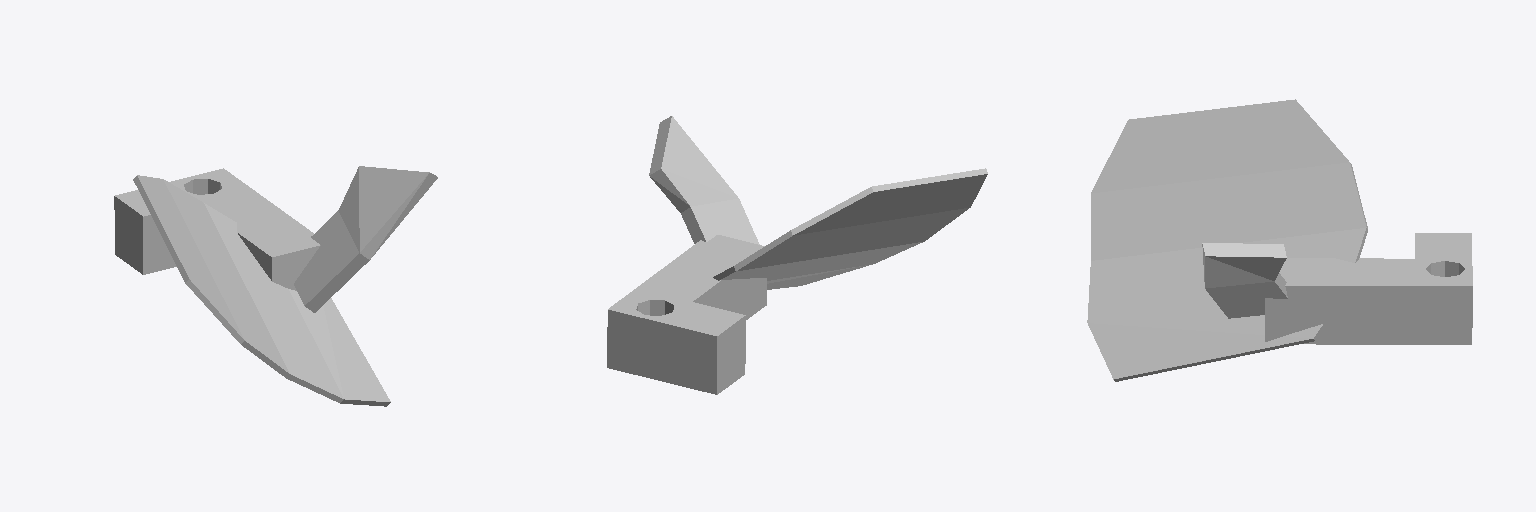
The model's file is R_WAA.obj.
3 views of the same model, side by side, from view 1: azimuth 30°, elevation 25°; view 2: azimuth 150°, elevation 25°; view 3: azimuth 270°, elevation 25° (orthographic).
Visible parts, largest first — view 1: R_WAA.2_ShapeIndexedFaceS.069, R_WAA.1_ShapeIndexedFaceS.057, R_WAA.14_ShapeIndexedFaceS.070; view 2: R_WAA.1_ShapeIndexedFaceS.057, R_WAA.2_ShapeIndexedFaceS.069, R_WAA.14_ShapeIndexedFaceS.070; view 3: R_WAA.2_ShapeIndexedFaceS.069, R_WAA.1_ShapeIndexedFaceS.057, R_WAA.14_ShapeIndexedFaceS.070.
Part boxes in pixels (left/top/right/bottom): R_WAA.2_ShapeIndexedFaceS.069: left=133, top=175, right=390, bottom=406; R_WAA.1_ShapeIndexedFaceS.057: left=114, top=168, right=320, bottom=290; R_WAA.14_ShapeIndexedFaceS.070: left=294, top=166, right=437, bottom=312; R_WAA.1_ShapeIndexedFaceS.057: left=607, top=235, right=766, bottom=394; R_WAA.2_ShapeIndexedFaceS.069: left=713, top=168, right=987, bottom=289; R_WAA.14_ShapeIndexedFaceS.070: left=649, top=116, right=759, bottom=244; R_WAA.2_ShapeIndexedFaceS.069: left=1087, top=99, right=1367, bottom=381; R_WAA.1_ShapeIndexedFaceS.057: left=1265, top=233, right=1472, bottom=344; R_WAA.14_ShapeIndexedFaceS.070: left=1202, top=243, right=1287, bottom=318.
Bounding box in the file's own units: 3.64 × 2.45 × 4.18.